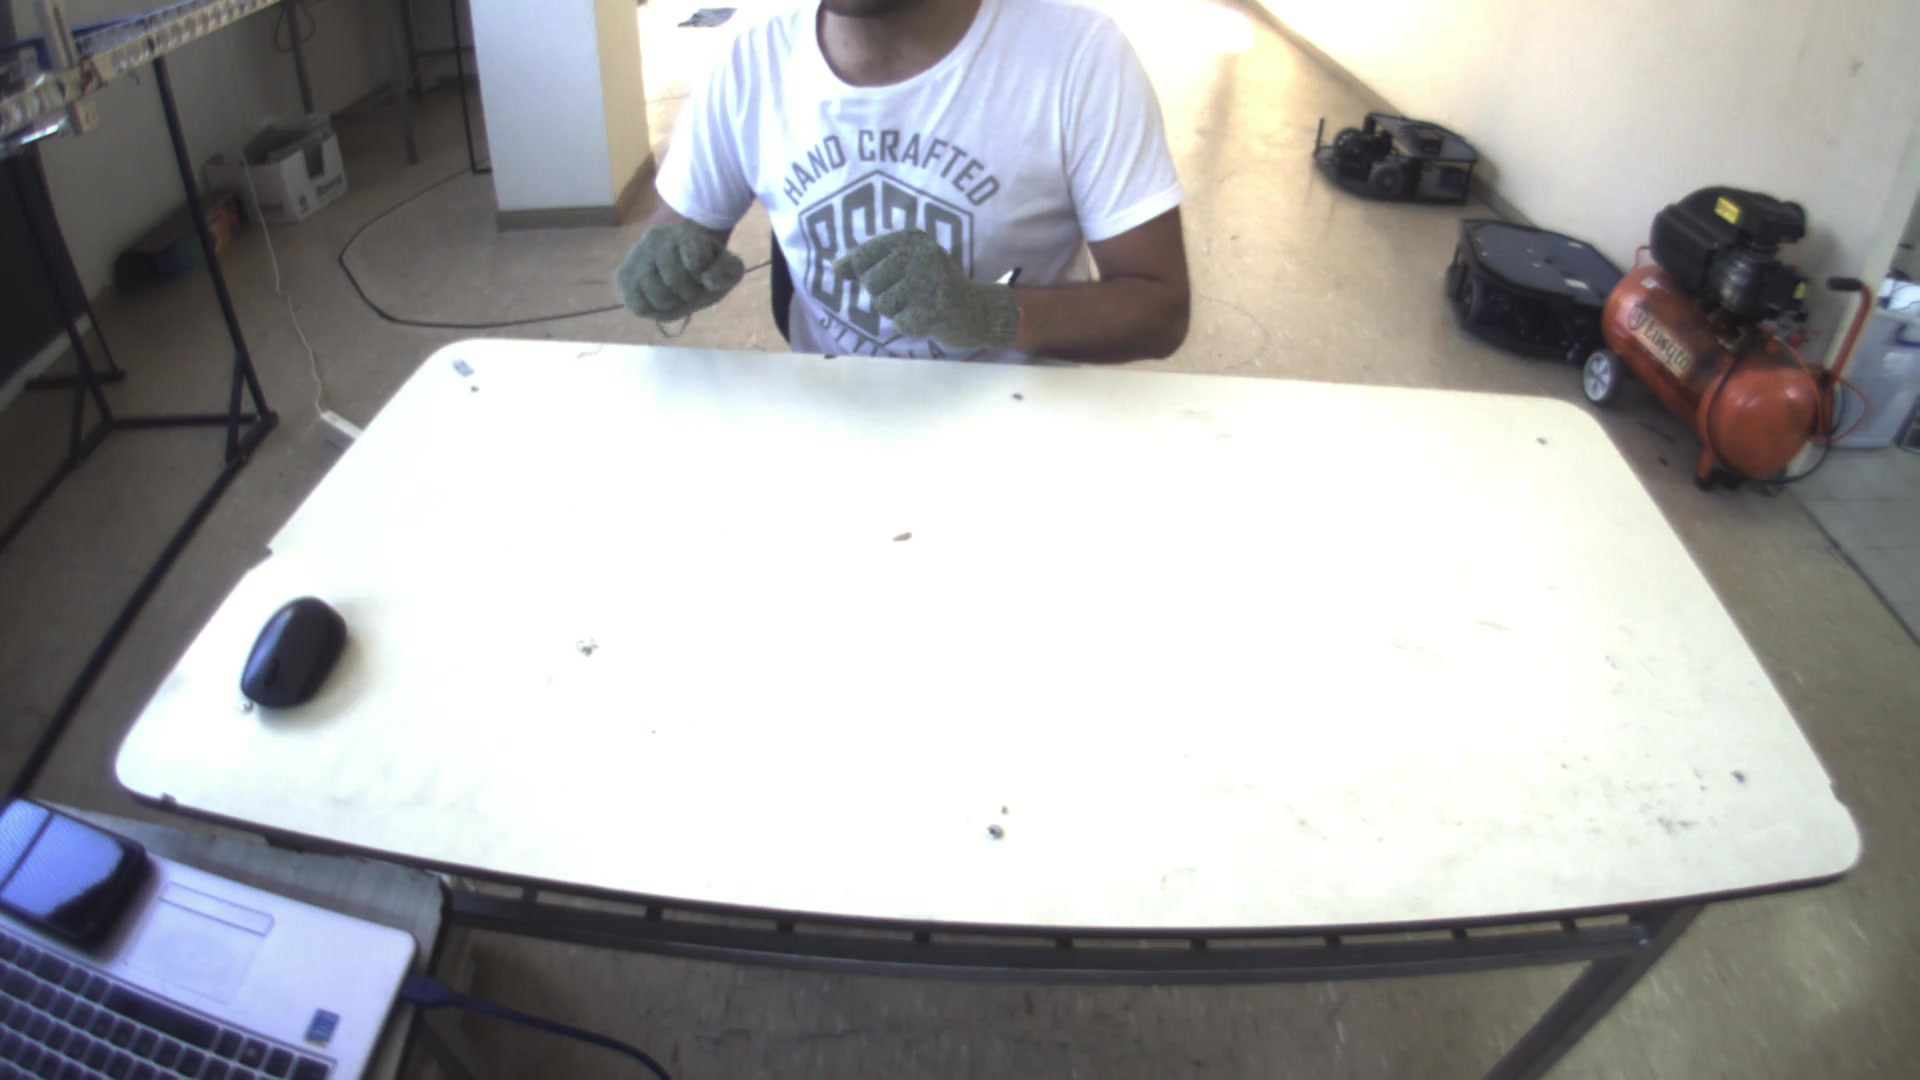hand: (827, 222, 1029, 359), (600, 200, 742, 316)
